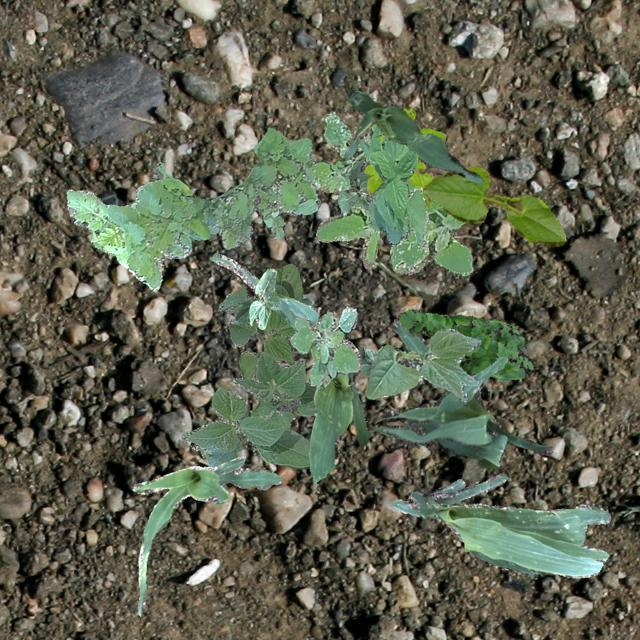crop: (208, 252, 370, 482), (376, 318, 552, 468), (130, 456, 280, 614), (392, 472, 610, 576), (180, 351, 316, 468), (344, 88, 481, 182), (422, 166, 566, 246), (217, 262, 309, 378), (358, 124, 428, 250), (364, 328, 480, 402), (232, 268, 280, 328), (336, 157, 371, 215), (358, 348, 376, 374)
weed: (66, 126, 320, 290), (312, 110, 472, 274), (394, 308, 534, 381), (364, 108, 444, 208), (290, 306, 360, 386)
